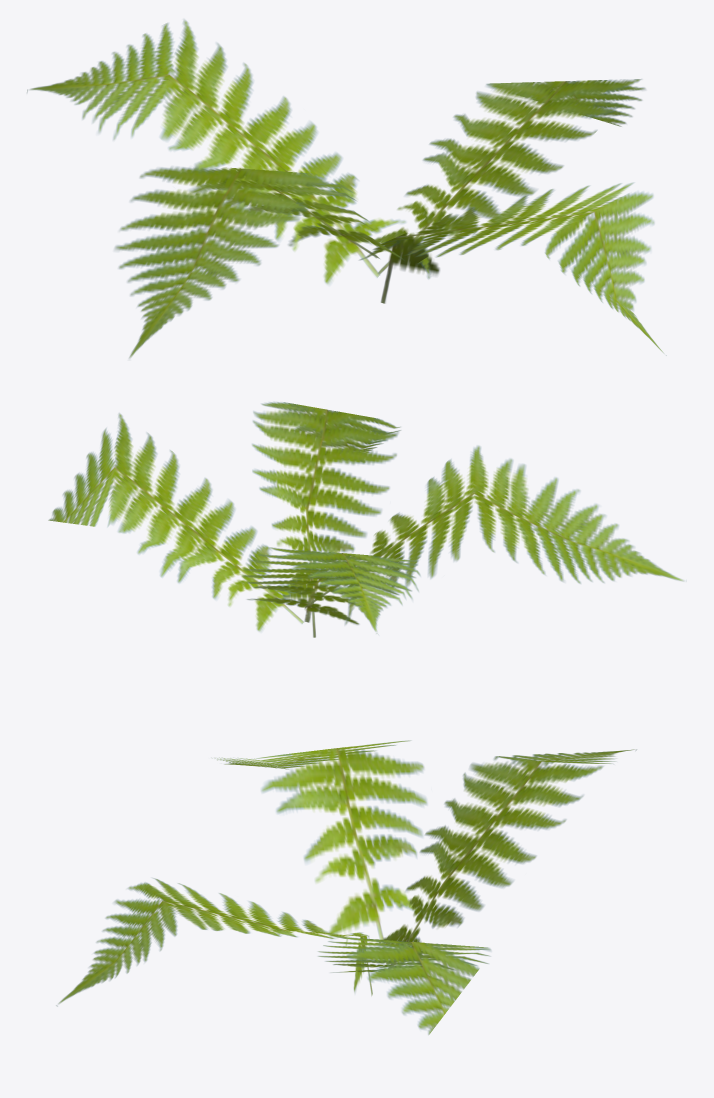
The model's file is fern_02_lod1.glb.
3 views of the same model, one above another, from view 1: azimuth 30°, elevation 25°; view 2: azimuth 150°, elevation 25°; view 3: azimuth 270°, elevation 25° (orthographic). The views are drawn at different scales.
Parts seen in each view (by area): view 1: ferns 2; view 2: ferns 2; view 3: ferns 2.
Boxes of the visible parts, x1,y1,x2,y2 form: ferns 2: (27,19,666,358); ferns 2: (48,402,686,637); ferns 2: (56,740,636,1034).
Bounding box in the file's own units: 0.6164 × 0.2015 × 0.5674.
Materials: 1 (1 with a texture image).
